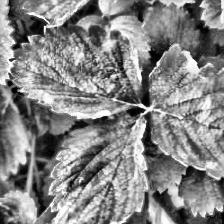Powdery Mildew Leaf: (6, 22, 145, 120), (47, 114, 149, 224), (146, 42, 224, 180), (0, 185, 39, 224)
